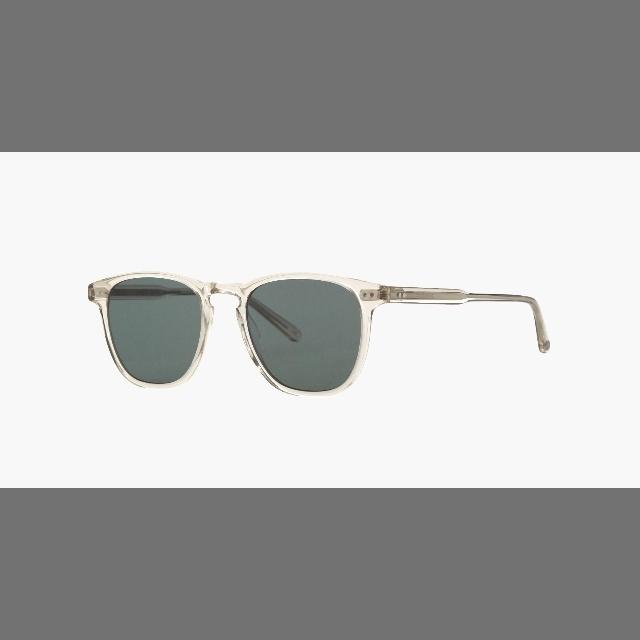Sunglasses: (66, 240, 568, 408)
